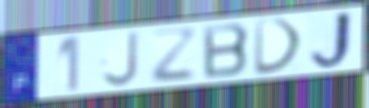1: (54, 34, 81, 95)
B: (201, 21, 252, 81)
D: (253, 16, 306, 77)
J: (307, 9, 356, 71), (100, 29, 140, 88)
Z: (150, 27, 199, 85)
